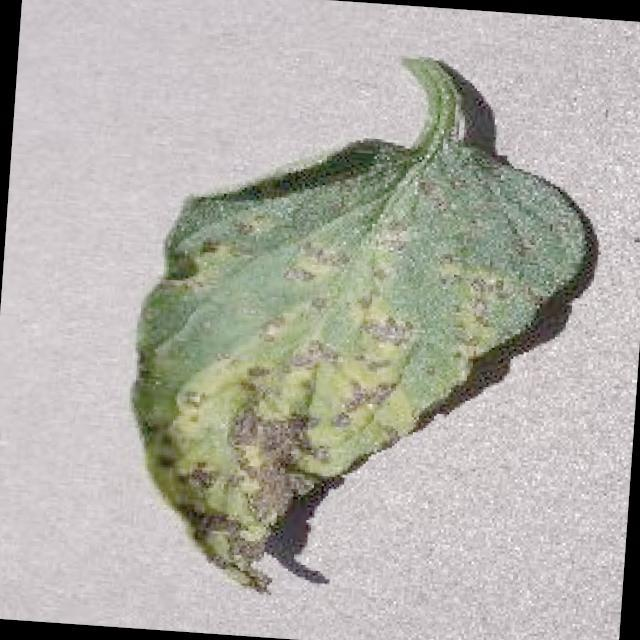Tomato Septoria spot leaf: (114, 122, 588, 620)
